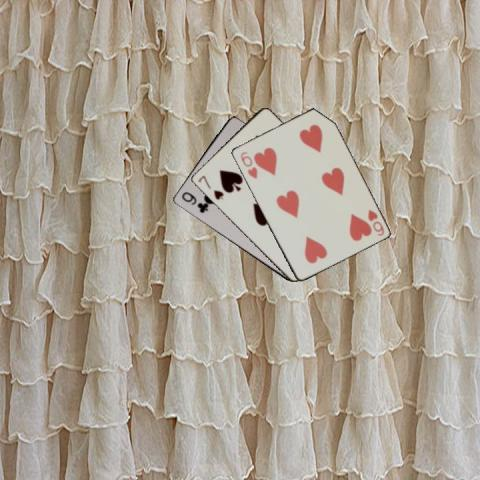6h: (237, 149, 259, 180), (365, 206, 385, 237)
7s: (194, 173, 224, 201)
9c: (179, 188, 209, 214)
